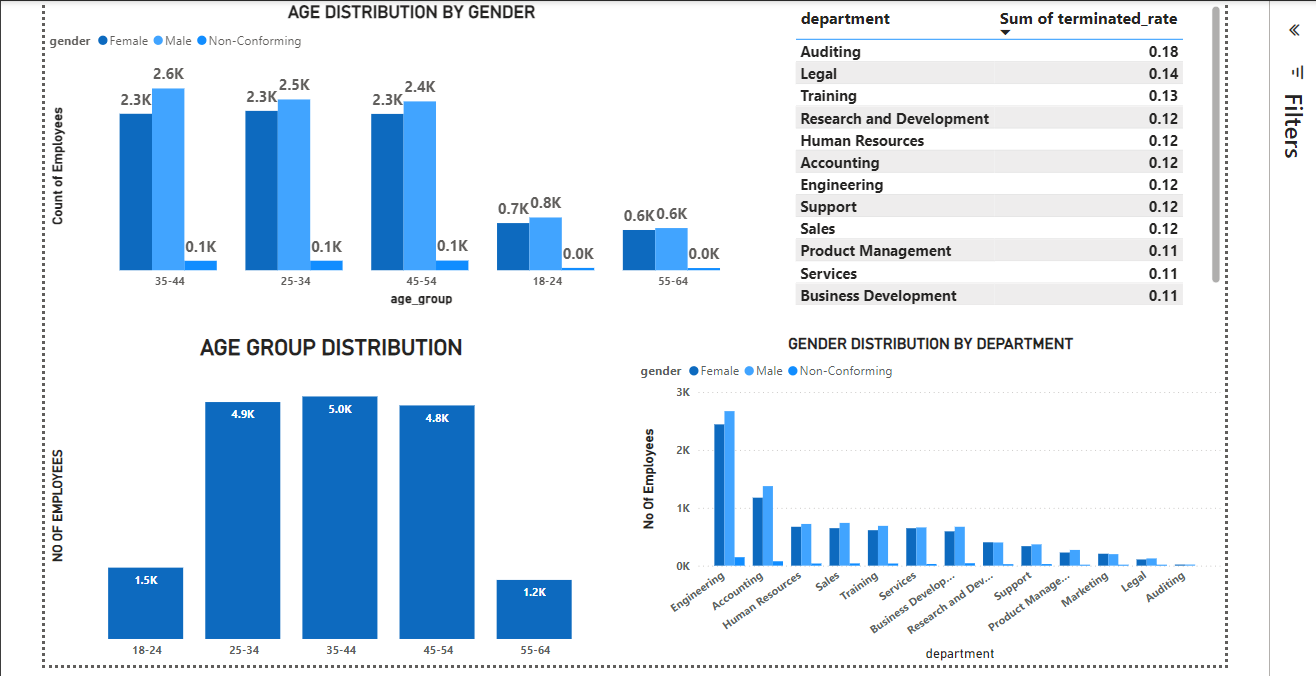

The page's visual inventory and layout, read from the dashboard file:
{"tool":"powerbi","page":{"name":"Page 2","canvas":[1280,720],"ordinal":1},"visuals":[{"type":"columnChart","title":"AGE GROUP DISTRIBUTION","fields":{"Category":["age group - HR SQL.age_group"],"Y":["Sum(age group - HR SQL.age_group_count)"]},"box":[0,360.4,620.8,360.4],"z":0},{"type":"tableEx","fields":{"Values":["turnover rate - HR SQL.department","Sum(turnover rate - HR SQL.terminated_rate)"]},"box":[808.6,0,470.9,334.6],"z":1000},{"type":"clusteredColumnChart","title":"GENDER DISTRIBUTION BY DEPARTMENT","fields":{"Category":["gender_depts - HR SQL.department"],"Series":["gender_depts - HR SQL.gender"],"Y":["Sum(gender_depts - HR SQL.dept_gender_dist)"]},"box":[640.5,360.4,639,358.9],"z":2000},{"type":"clusteredColumnChart","title":"AGE DISTRIBUTION BY GENDER","fields":{"Category":["Age_group_gender - HR SQL.age_group"],"Y":["Sum(Age_group_gender - HR SQL.age_group_count)"],"Series":["Age_group_gender - HR SQL.gender"]},"box":[0,0,795,334.6],"z":3000}]}

Visuals, with their boxes on the page's 1280x720 design canvas (x1, y1, x2, y2). These are canvas units, not pixel positions in the 1316x676 screenshot, which may show the page scaled, cropped or inside an application window:
"AGE GROUP DISTRIBUTION" columnChart: (0,360,621,721)
tableEx - turnover rate - HR SQL.department x Sum(turnover rate - HR SQL.terminated_rate): (809,0,1280,335)
"GENDER DISTRIBUTION BY DEPARTMENT" clusteredColumnChart: (640,360,1280,719)
"AGE DISTRIBUTION BY GENDER" clusteredColumnChart: (0,0,795,335)
